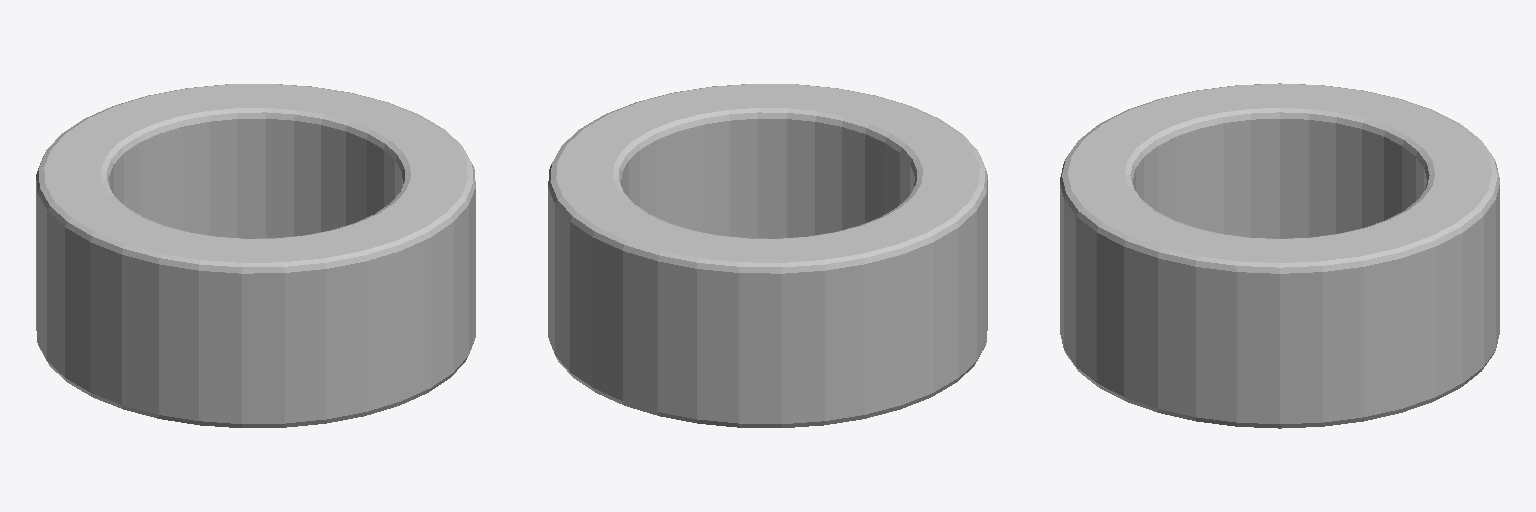
The model's file is powercomponent.obj.
The picture shows the model from 3 angles: view 1: azimuth 30°, elevation 25°; view 2: azimuth 150°, elevation 25°; view 3: azimuth 270°, elevation 25°; orthographic projection.
Parts seen in each view (by area): view 1: Cylinder; view 2: Cylinder; view 3: Cylinder.
Boxes of the visible parts, <box> form: Cylinder: <box>36,84,475,427</box>; Cylinder: <box>548,84,987,427</box>; Cylinder: <box>1060,83,1499,428</box>.
Size of the model in its own units: 0.6 by 0.2481 by 0.6.